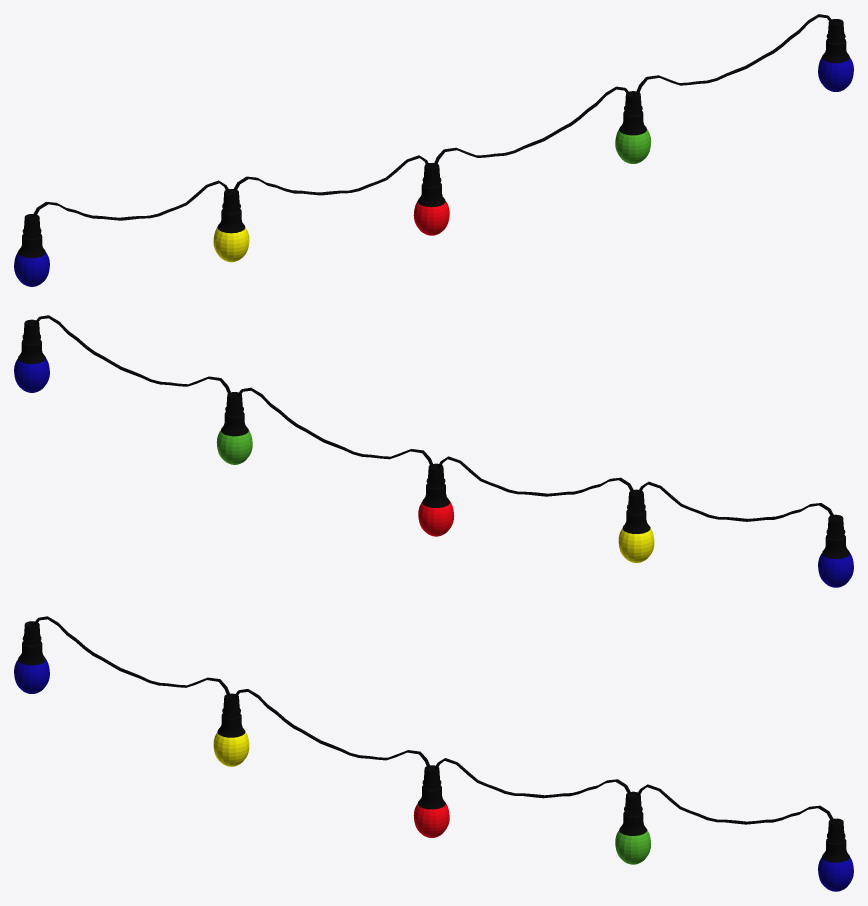
File: Lamparitas.fbx
3 views of the same model, one above another, from view 1: azimuth 30°, elevation 25°; view 2: azimuth 150°, elevation 25°; view 3: azimuth 330°, elevation 25° (orthographic).
Visible parts, largest first — view 1: Cube.001, Sphere.001, Sphere.004, Sphere.003, Sphere.002, Sphere; view 2: Cube.001, Sphere.001, Sphere.004, Sphere.002, Sphere.003, Sphere; view 3: Cube.001, Sphere.001, Sphere.004, Sphere.003, Sphere, Sphere.002.
Part boxes in pixels (x1,y1,x2,y2): Cube.001: (18, 14, 849, 258); Sphere.001: (213, 228, 249, 262); Sphere.004: (818, 57, 853, 91); Sphere.003: (615, 129, 651, 163); Sphere.002: (14, 252, 49, 286); Sphere: (413, 201, 449, 235); Cube.001: (18, 315, 849, 559); Sphere.001: (618, 528, 654, 562); Sphere.004: (14, 358, 49, 392); Sphere.002: (818, 553, 853, 587); Sphere.003: (216, 430, 252, 464); Sphere: (418, 502, 454, 536); Cube.001: (18, 616, 849, 862); Sphere.001: (213, 732, 249, 766); Sphere.004: (818, 857, 853, 891); Sphere.003: (615, 830, 651, 864); Sphere: (413, 803, 449, 837); Sphere.002: (14, 659, 49, 693).
Size of the model in its own units: 182 by 26.18 by 6.85.
